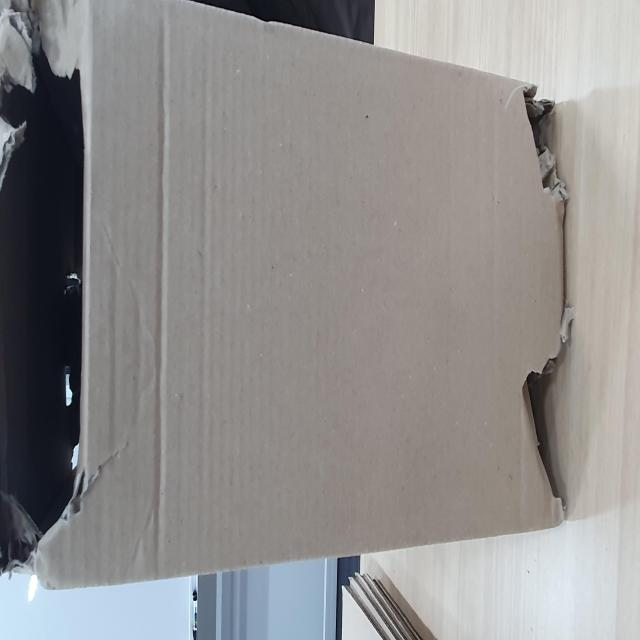damaged: (34, 2, 360, 223)
